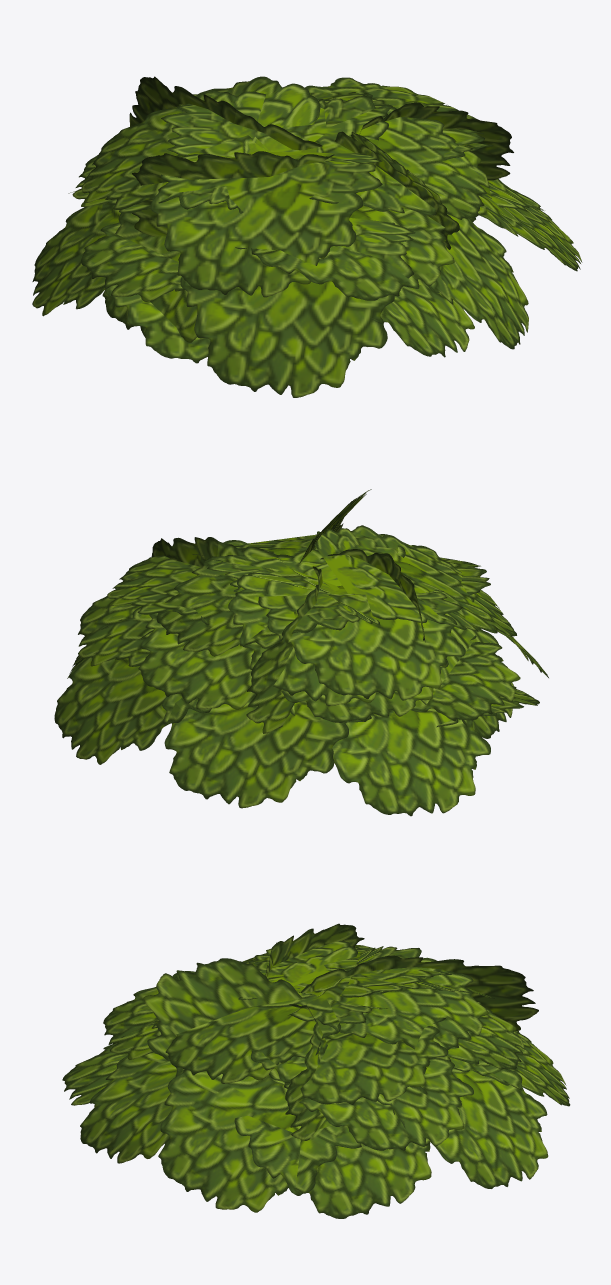
File: e_asset_courtyard_bush.fbx
The picture shows the model from 3 angles, top to bottom: view 1: azimuth 30°, elevation 25°; view 2: azimuth 150°, elevation 25°; view 3: azimuth 270°, elevation 25°; orthographic projection. The views are drawn at different scales.
Parts seen in each view (by area): view 1: polySurface1002; view 2: polySurface1002; view 3: polySurface1002.
Boxes of the visible parts, box(x1,y1,x2,y2) form: polySurface1002: box(32, 76, 582, 397); polySurface1002: box(54, 489, 548, 816); polySurface1002: box(62, 923, 570, 1218).
Size of the model in its own units: 1.15 by 0.53 by 1.19.
